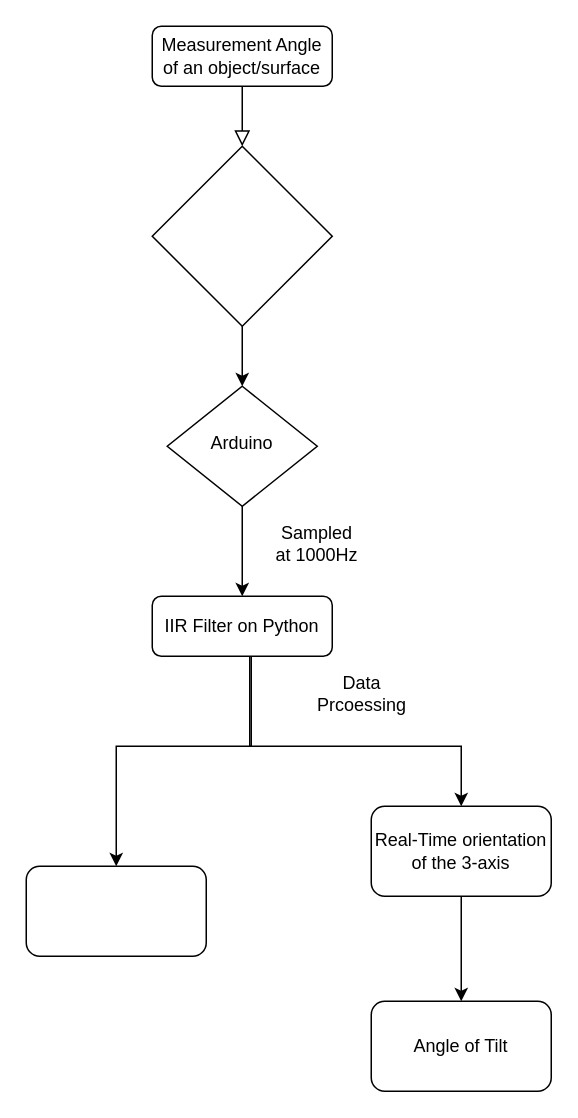
Some shapes in this 578 by 1118 pixel diagram are drawn without their labels. Each missing label, with the box of its shape:
Accelerometer ADXL335: (151, 145, 332, 326)
Real-time Plots: (25, 865, 206, 956)
